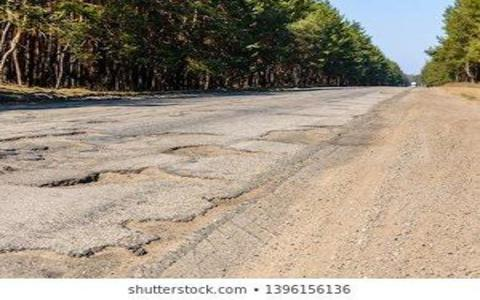patchy roads: (5, 102, 135, 226), (142, 118, 334, 190)
